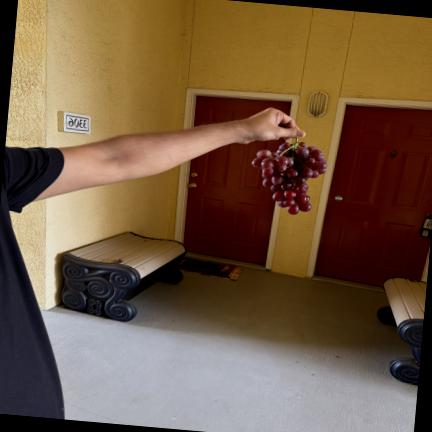grape_cluster: (252, 138, 327, 215)
